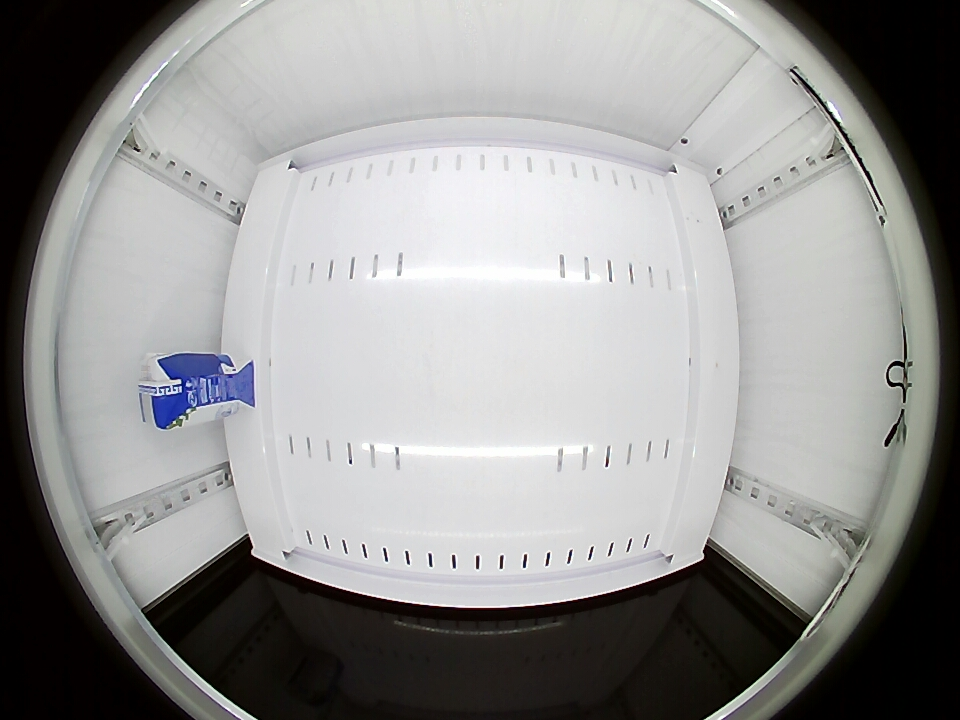anmuxi: (138, 354, 197, 430)
